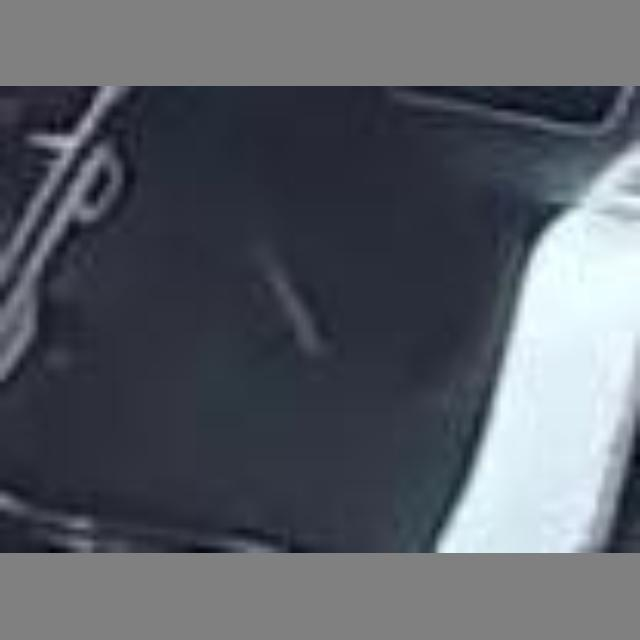pakai: (142, 141, 431, 412)
